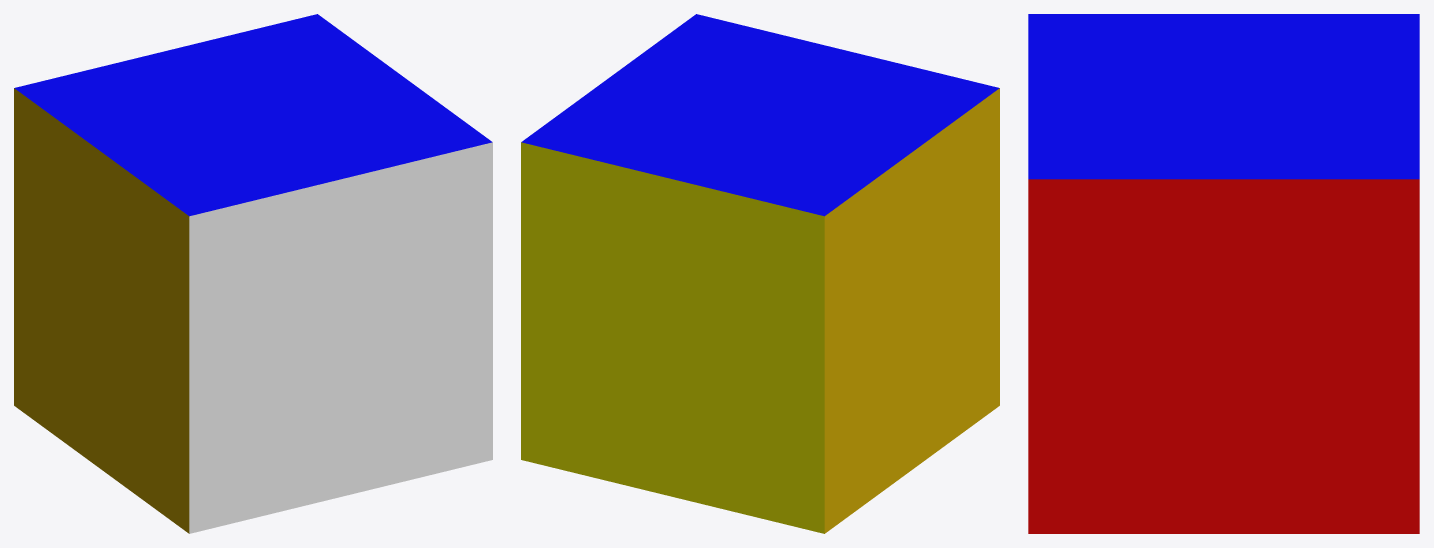
The picture shows the model from 3 angles, left to right: view 1: azimuth 30°, elevation 25°; view 2: azimuth 150°, elevation 25°; view 3: azimuth 270°, elevation 25°; orthographic projection. The views are drawn at different scales.
Parts seen in each view (by area): view 1: front-up-left, front-left, front-down-left, front-up-right, front-up, back-up-left, up-left, front-right, front-down-right, front, front-down, back-left (+7 smaller); view 2: back-up-left, back-left, back-down-left, back-up-right, back-up, front-up-left, up-left, back-right, back-down-right, back, back-down, front-left (+7 smaller); view 3: up-right, front-up-right, back-up-right, down-right, right, front-right, front-down-right, back-right, back-down-right, up, front-up, back-up (+3 smaller).
Boxes of the visible parts, bbox=[...] form: front-up-left: bbox=[131, 149, 290, 321]; front-left: bbox=[131, 280, 290, 427]; front-down-left: bbox=[131, 385, 290, 533]; front-up-right: bbox=[333, 99, 492, 272]; front-up: bbox=[232, 124, 391, 297]; back-up-left: bbox=[14, 63, 173, 236]; up-left: bbox=[72, 106, 231, 278]; front-right: bbox=[391, 248, 492, 378]; front-down-right: bbox=[391, 354, 492, 484]; front: bbox=[290, 273, 391, 403]; front-down: bbox=[290, 379, 391, 508]; back-left: bbox=[14, 194, 72, 342]; back-up-left: bbox=[723, 149, 882, 321]; back-left: bbox=[723, 280, 882, 427]; back-down-left: bbox=[723, 385, 882, 533]; back-up-right: bbox=[521, 99, 680, 272]; back-up: bbox=[622, 124, 781, 297]; front-up-left: bbox=[840, 63, 999, 236]; up-left: bbox=[782, 106, 941, 278]; back-right: bbox=[521, 248, 622, 378]; back-down-right: bbox=[521, 354, 622, 484]; back: bbox=[622, 273, 723, 403]; back-down: bbox=[622, 379, 723, 508]; front-left: bbox=[941, 194, 999, 342]; up-right: bbox=[1158, 124, 1289, 297]; front-up-right: bbox=[1028, 124, 1158, 297]; back-up-right: bbox=[1289, 124, 1419, 297]; down-right: bbox=[1158, 415, 1289, 533]; right: bbox=[1158, 297, 1289, 415]; front-right: bbox=[1028, 297, 1158, 415]; front-down-right: bbox=[1028, 415, 1158, 533]; back-right: bbox=[1289, 297, 1419, 415]; back-down-right: bbox=[1289, 415, 1419, 533]; up: bbox=[1158, 69, 1289, 124]; front-up: bbox=[1028, 69, 1158, 124]; back-up: bbox=[1289, 69, 1419, 124].
Bounding box in the file's own units: 0.0565 × 0.0565 × 0.0565.
